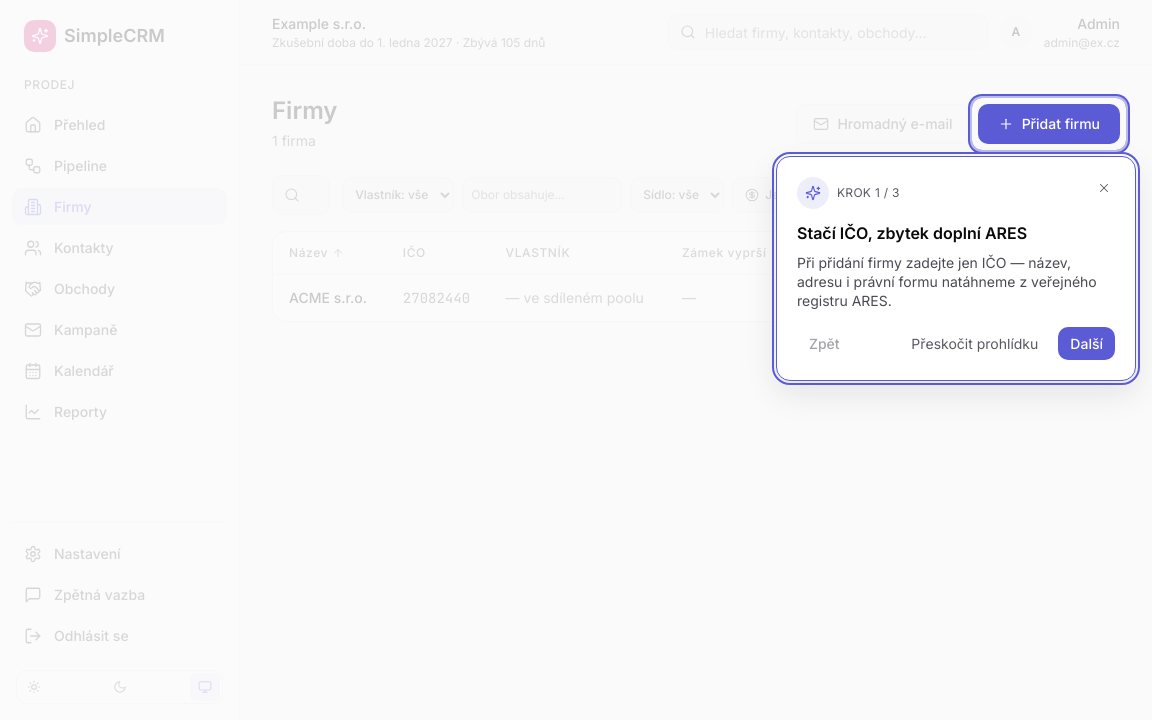
Test: Bulk email › leaves selection mode and empties the basket on Zrušit výběr
Click the button "Hromadný e-mail" at (883, 124), box [796,104,970,144]
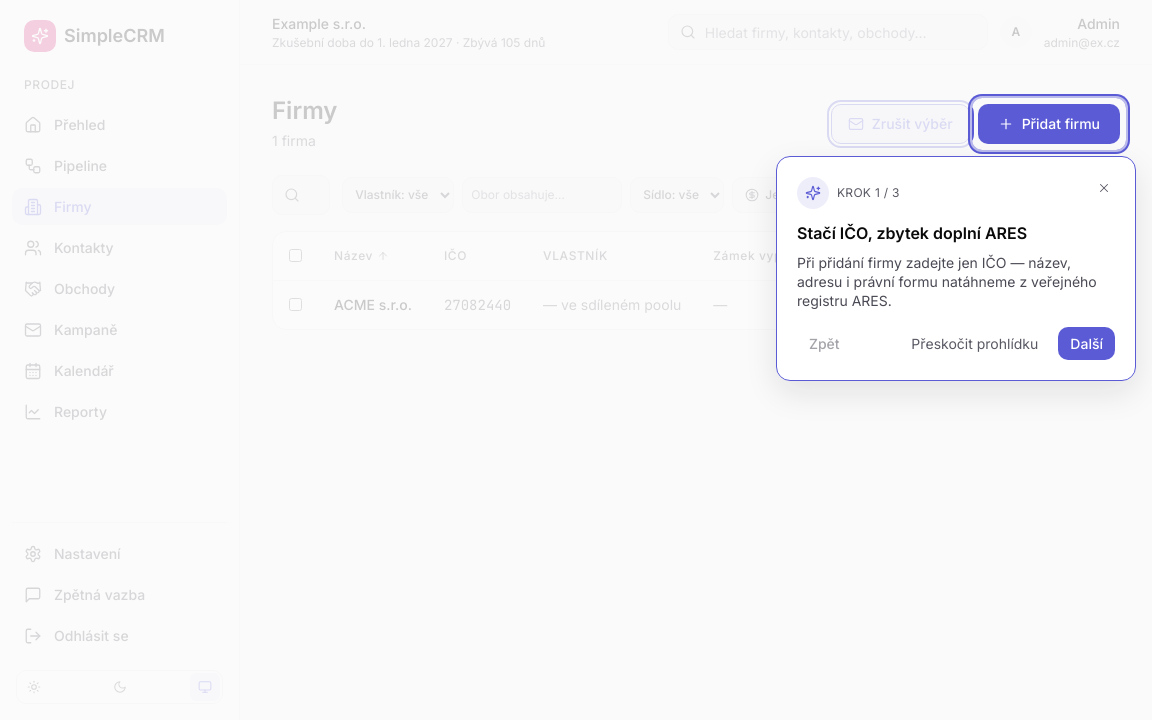
Click the checkbox with test id "companies-select-page" at (296, 255), box [289,249,302,262]
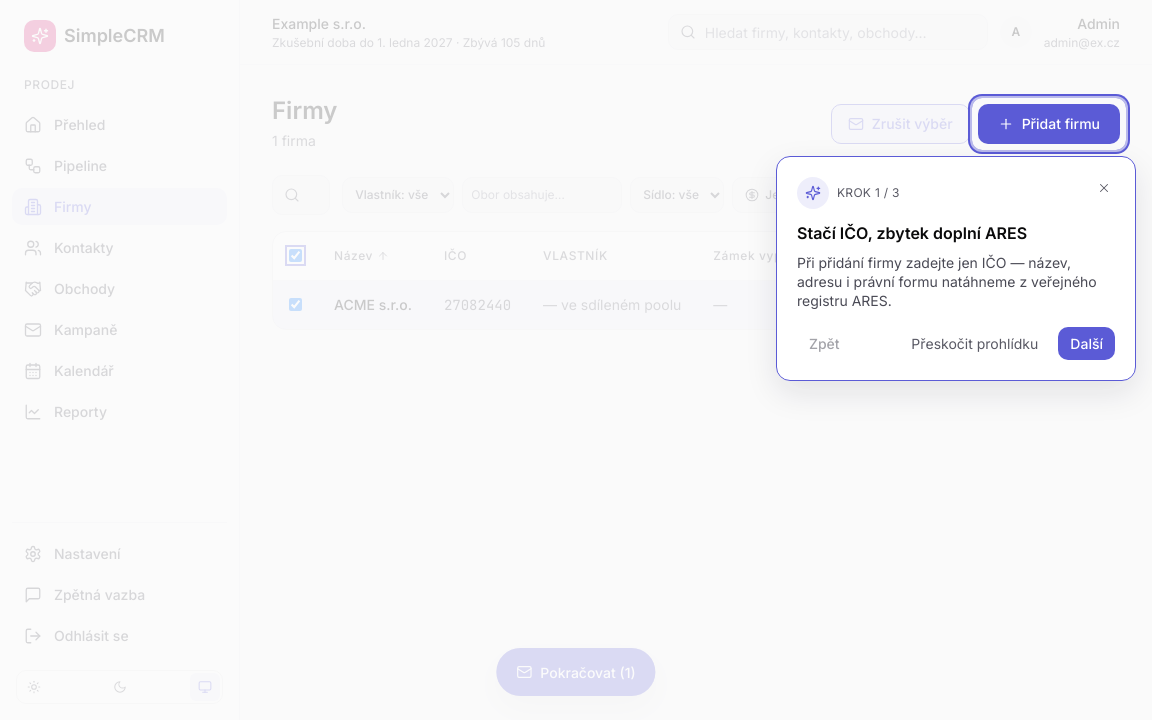
Now the button with test id "companies-bulk-continue" reads "Pokračovat (1)", box [496,648,656,696]
Click the button "Zrušit výběr" at (900, 124), box [831,104,970,144]
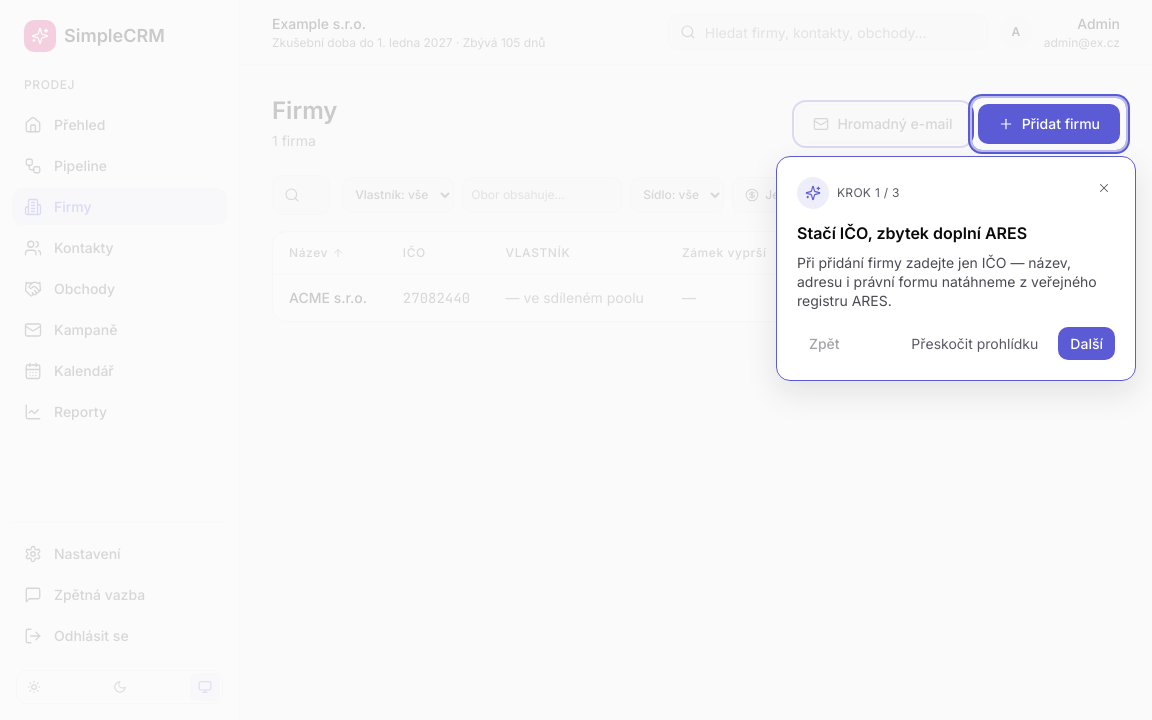
Now the button with test id "companies-bulk-continue" is gone
Now the checkbox with test id "companies-select-page" is gone
